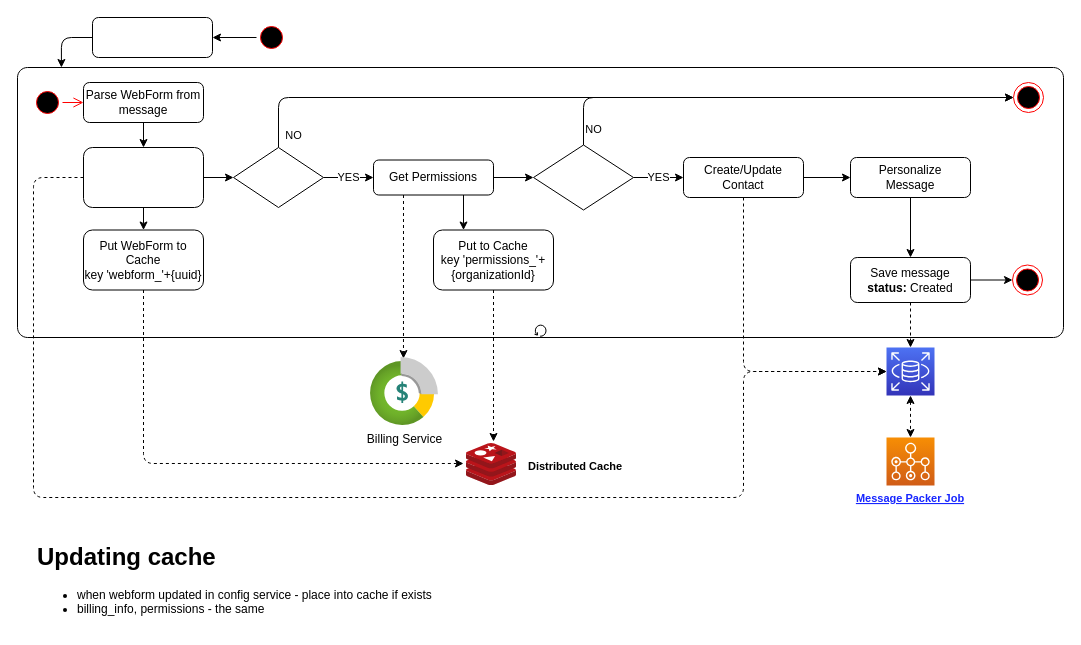
Image size: 1081x645. Some labels were removed from this diagram. The box of each missing label's shape, as (x1, y1, x2, y2) in pixels:
Active: (232, 146, 324, 208)
Database: (886, 346, 934, 396)
Get WebForm from DB by {UUID}: (82, 146, 204, 208)
Read Batch Messages: (92, 16, 212, 58)
webhooks allowed?: (532, 144, 634, 210)
